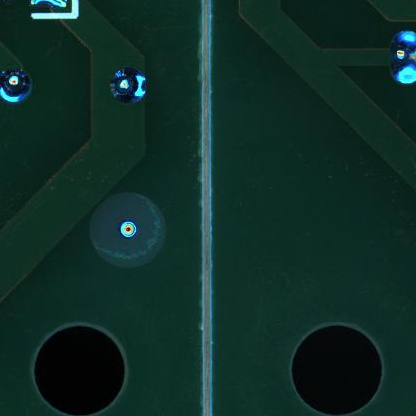spot: (389, 30, 416, 85), (110, 66, 147, 105), (1, 67, 34, 103)
